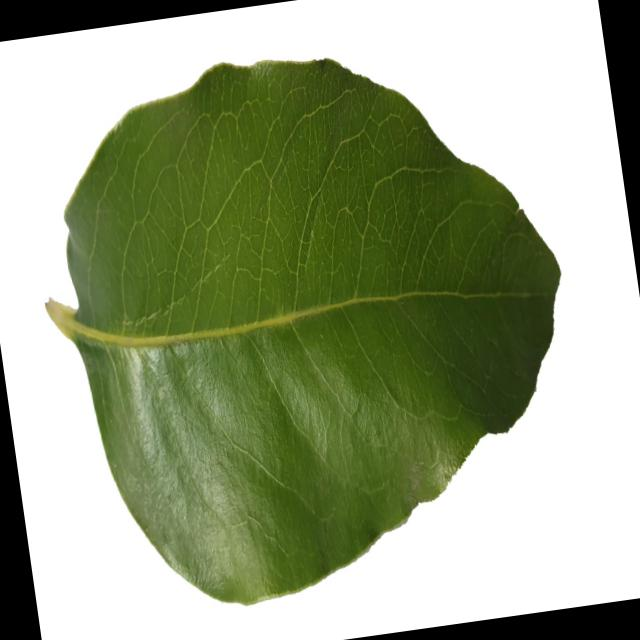Medicinal-Sandalwood: (15, 19, 602, 627)
